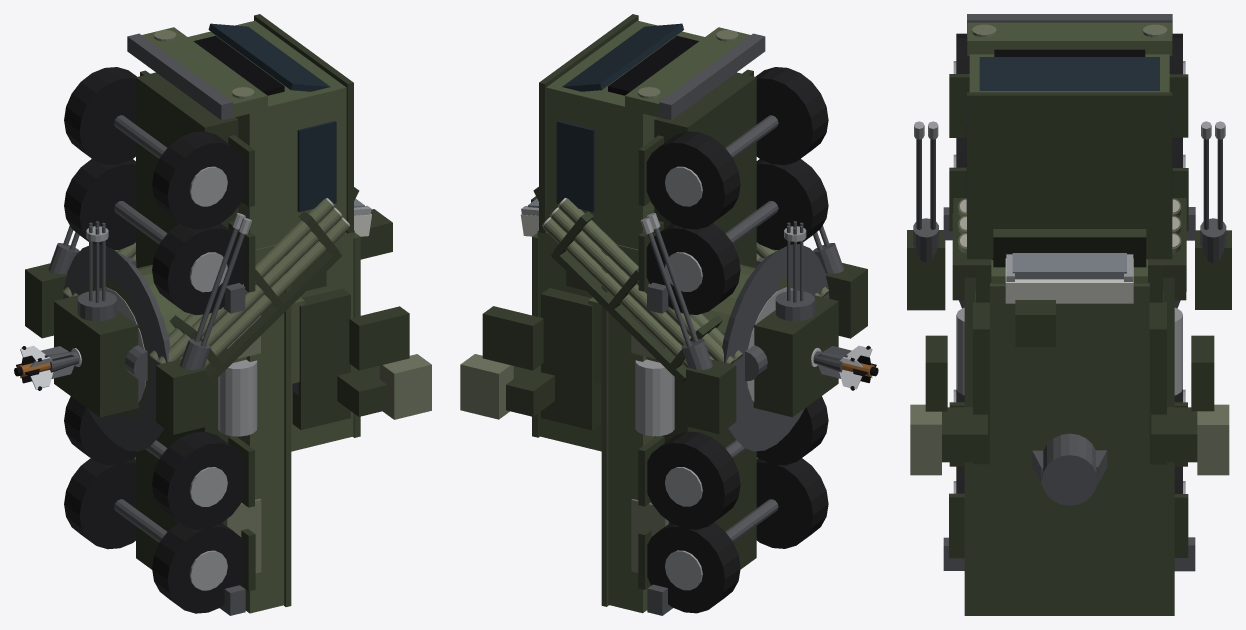
The model's file is KSArmory_MeshAtlas.glb.
3 views of the same model, side by side, from view 1: azimuth 30°, elevation 25°; view 2: azimuth 150°, elevation 25°; view 3: azimuth 270°, elevation 25° (orthographic). The views are drawn at different scales.
Visible parts, largest first — view 1: KSArmory_Subpart_Chassis, KSArmory_Subpart_Turret, KSArmory_Subpart_Pods, KSArmory_Subpart_CiwsGuns, KSArmory_Subpart_Guns, KSArmory_Subpart_CiwsBase, KSArmory_Subpart_CiwsTurret, KSArmory_Subpart_Mk82, KSArmory_Subpart_Aim9; view 2: KSArmory_Subpart_Chassis, KSArmory_Subpart_Turret, KSArmory_Subpart_Pods, KSArmory_Subpart_CiwsGuns, KSArmory_Subpart_Guns, KSArmory_Subpart_CiwsBase, KSArmory_Subpart_CiwsTurret, KSArmory_Subpart_Mk82, KSArmory_Subpart_Aim9; view 3: KSArmory_Subpart_Chassis, KSArmory_Subpart_Turret, KSArmory_Subpart_Guns, KSArmory_Subpart_Pods.
Boxes of the visible parts, x1,y1,x2,y2 form: KSArmory_Subpart_Chassis: (64,14,353,615); KSArmory_Subpart_Turret: (291,187,431,451); KSArmory_Subpart_Pods: (63,198,350,383); KSArmory_Subpart_CiwsGuns: (54,221,147,417); KSArmory_Subpart_Guns: (25,213,251,434); KSArmory_Subpart_CiwsBase: (63,244,170,451); KSArmory_Subpart_CiwsTurret: (84,264,304,418); KSArmory_Subpart_Mk82: (41,346,81,378); KSArmory_Subpart_Aim9: (20,345,53,390); KSArmory_Subpart_Chassis: (539,14,828,615); KSArmory_Subpart_Turret: (460,187,601,451); KSArmory_Subpart_Pods: (542,198,829,382); KSArmory_Subpart_CiwsGuns: (745,221,838,417); KSArmory_Subpart_Guns: (640,213,867,434); KSArmory_Subpart_CiwsBase: (722,244,829,451); KSArmory_Subpart_CiwsTurret: (588,264,808,401); KSArmory_Subpart_Mk82: (811,346,851,378); KSArmory_Subpart_Aim9: (839,345,872,390); KSArmory_Subpart_Chassis: (943,14,1195,615); KSArmory_Subpart_Turret: (910,229,1229,505); KSArmory_Subpart_Guns: (907,121,1231,310); KSArmory_Subpart_Pods: (952,198,1186,300).
Size of the model in its own units: 5.72 by 8.04 by 4.18.
1 material, 1 textured.
